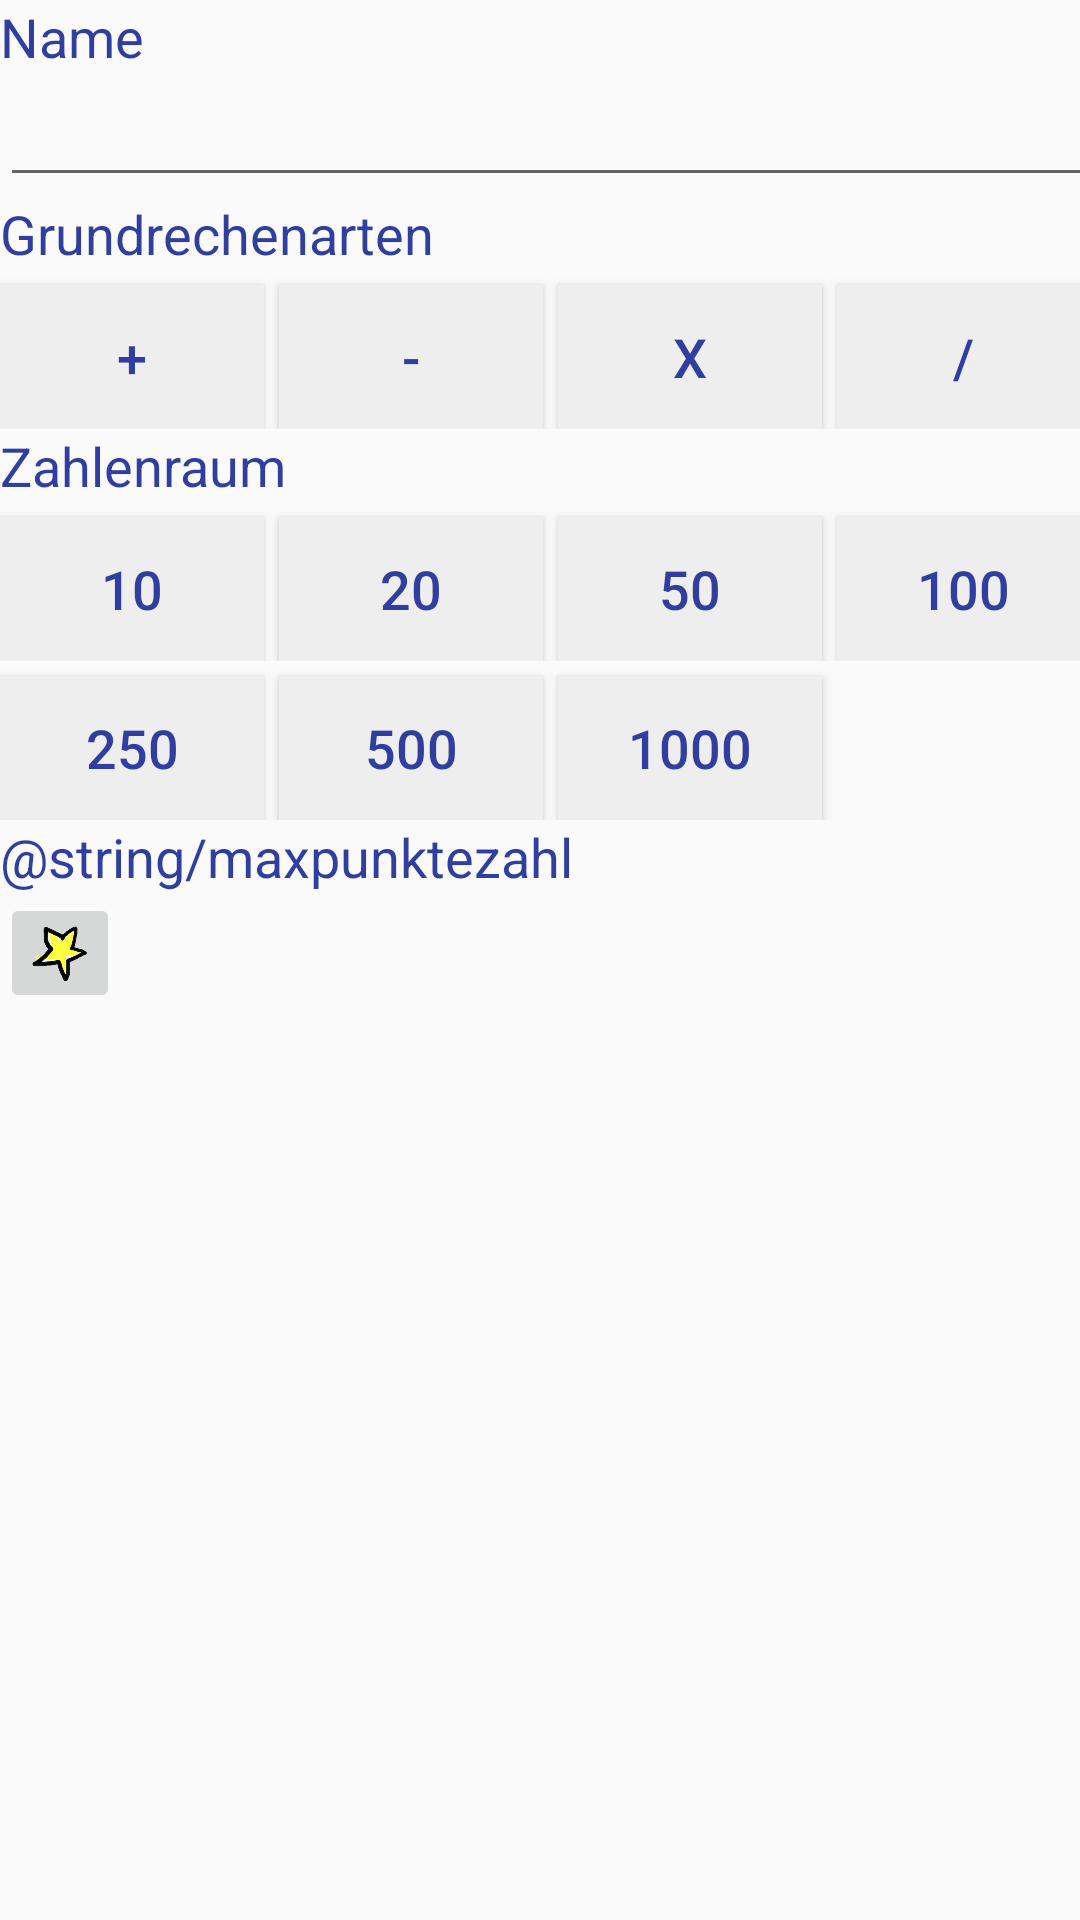

Icons on this 1080px×1920px Android screen, each with the point to tap as point (x, y):
star: point (60, 953)
